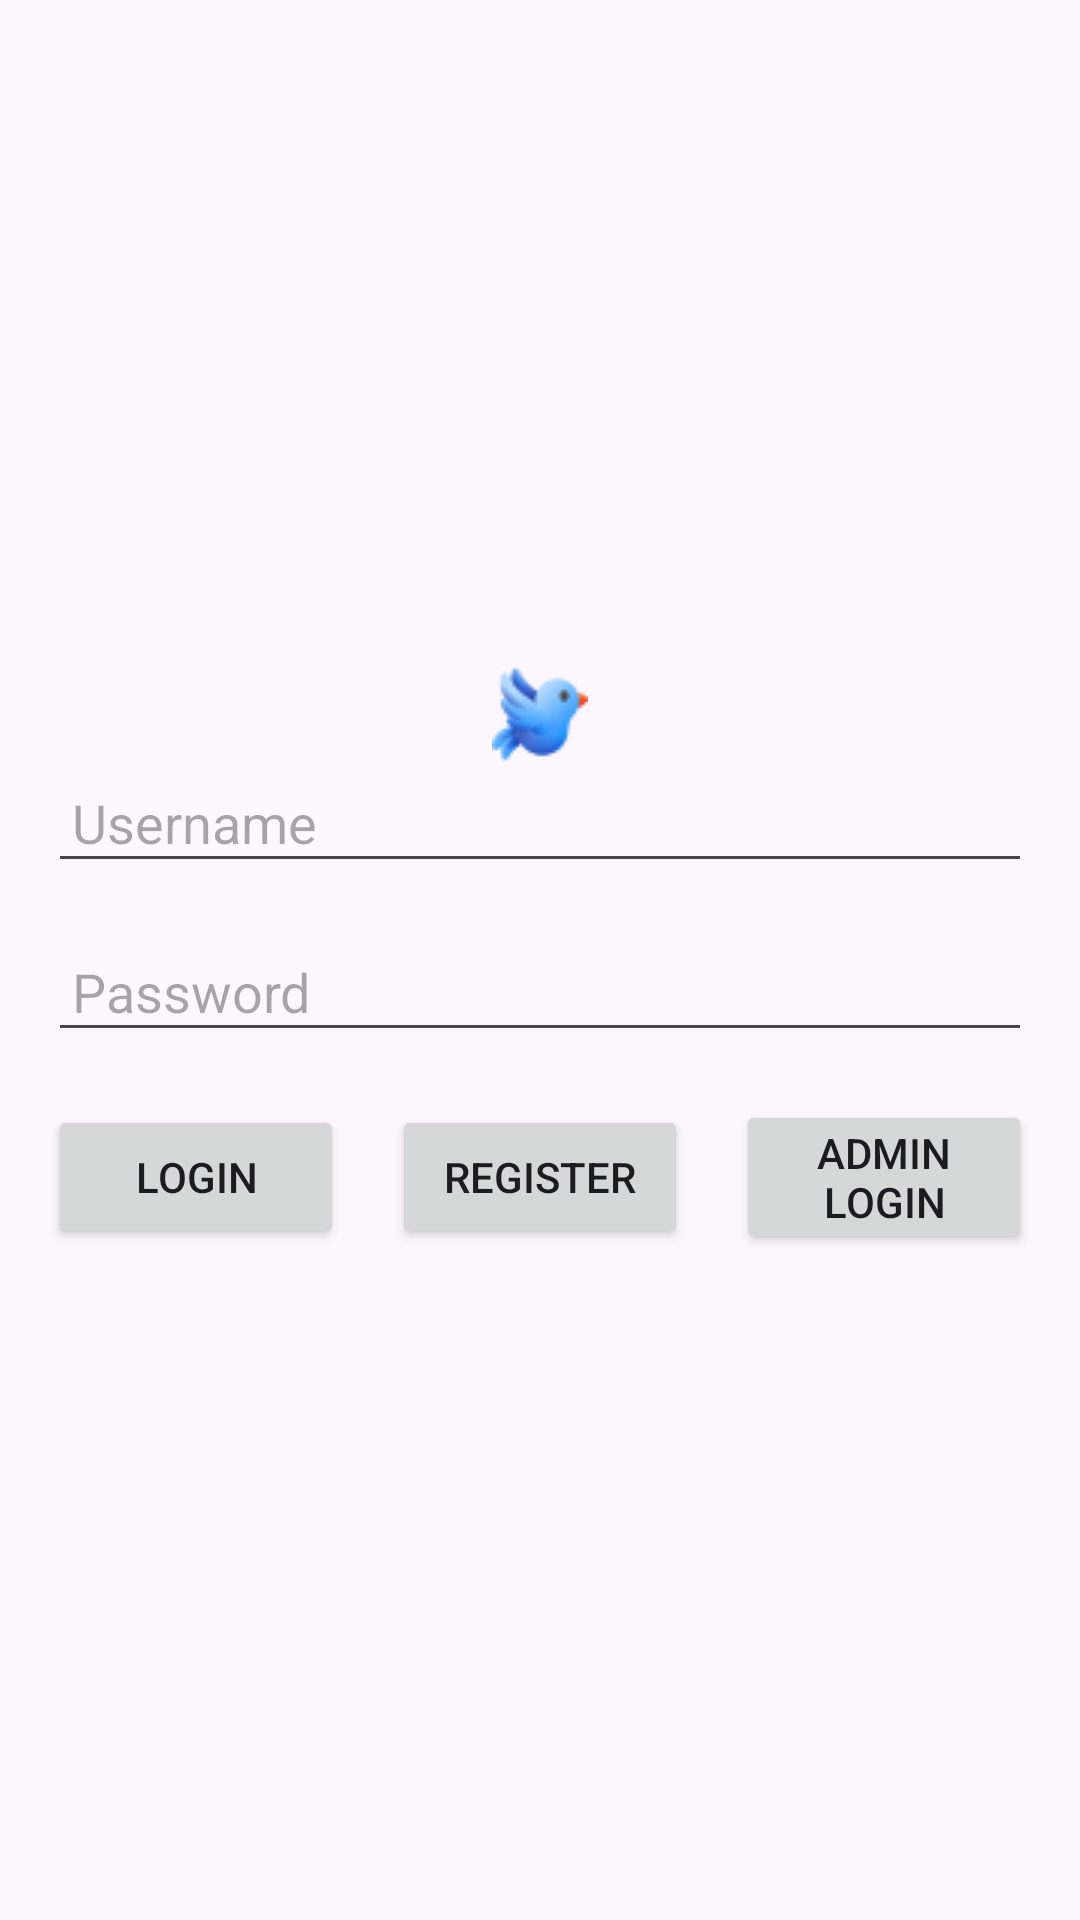

Locate icon controls on the screen. Image size 1080 x 1920, boxes as (x1, y1, x2, y2).
bird: (492, 668, 588, 762)
